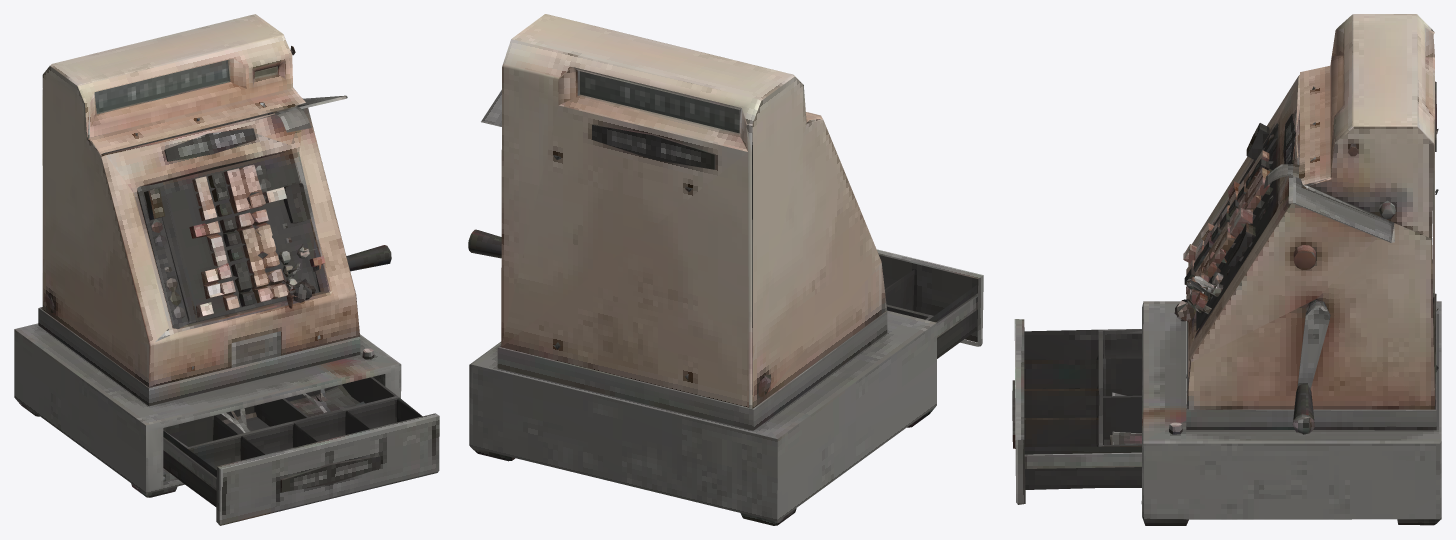
The model's file is till.glb.
The picture shows the model from 3 angles, left to right: view 1: azimuth 30°, elevation 25°; view 2: azimuth 150°, elevation 25°; view 3: azimuth 270°, elevation 25°; orthographic projection. The views are drawn at different scales.
Visible parts, largest first — view 1: body, glass; view 2: body, glass; view 3: body.
Boxes of the visible parts, x1=… form: body: x1=14, y1=14, x2=439, y2=525; glass: x1=95, y1=59, x2=277, y2=113; body: x1=468, y1=14, x2=983, y2=525; glass: x1=578, y1=71, x2=739, y2=134; body: x1=1012, y1=14, x2=1441, y2=525.
Size of the model in its own units: 0.5965 by 0.6214 by 0.6244.
Materials: 2 (2 with a texture image).
